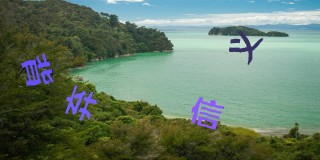义: (229, 31, 263, 64)
信: (191, 97, 224, 130)
弃: (64, 86, 96, 120)
背: (21, 53, 53, 86)
